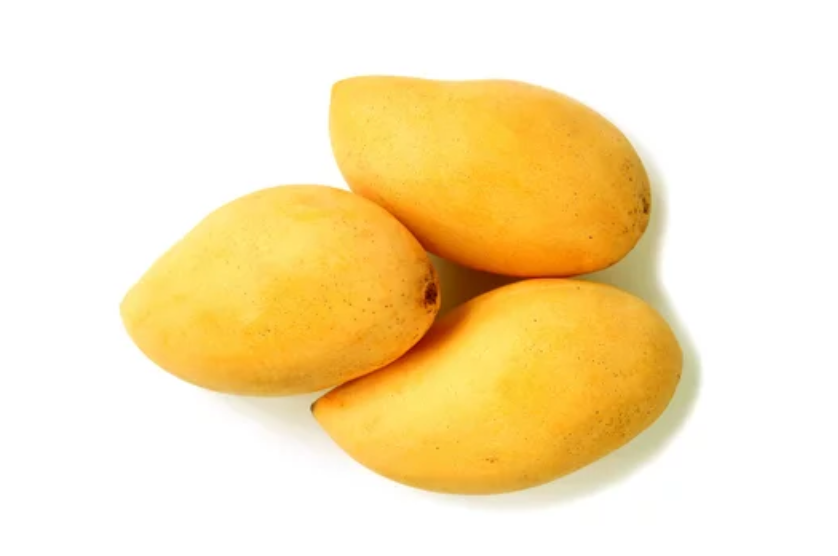mango: (302, 275, 682, 494), (118, 178, 447, 401), (326, 70, 655, 282)
